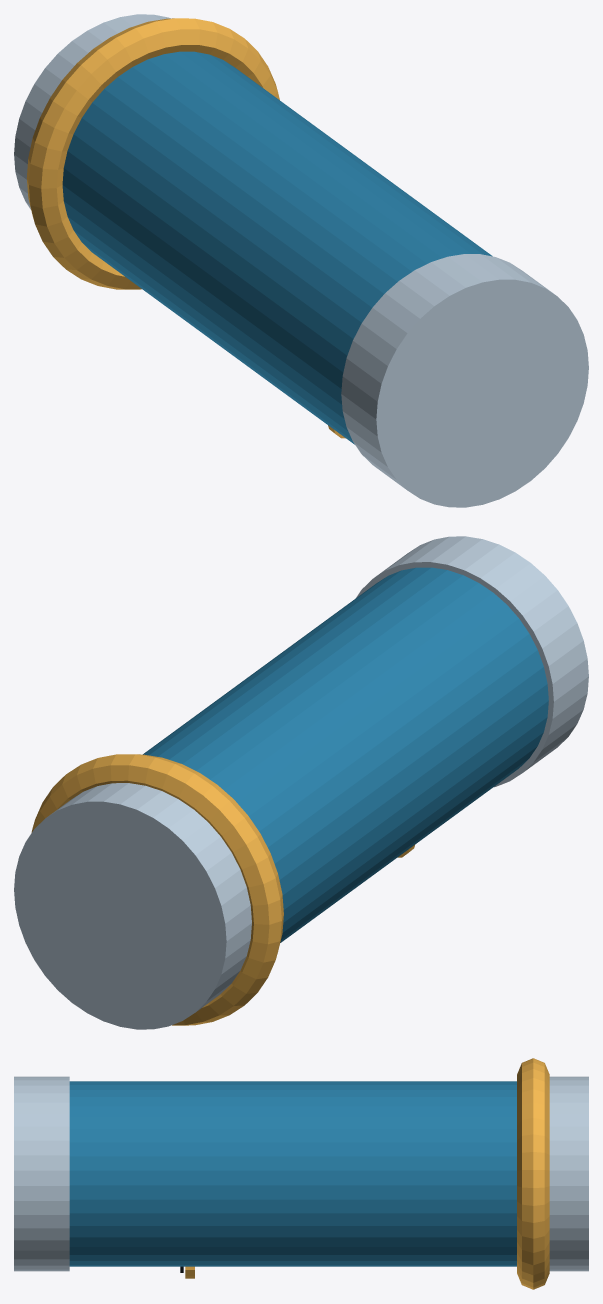
File: 69_L92_SealedCoreCartridgeA.fbx
3 renders of one model, top to bottom at view 1: azimuth 30°, elevation 25°; view 2: azimuth 150°, elevation 25°; view 3: azimuth 270°, elevation 25°, orthographic. The views are drawn at different scales.
Parts seen in each view (by area): view 1: L92_SealedCoreCartridgeA_Part_0000, L92_SealedCoreCartridgeA_Part_0001, L92_SealedCoreCartridgeA_Part_0006; view 2: L92_SealedCoreCartridgeA_Part_0000, L92_SealedCoreCartridgeA_Part_0001, L92_SealedCoreCartridgeA_Part_0006; view 3: L92_SealedCoreCartridgeA_Part_0000, L92_SealedCoreCartridgeA_Part_0001, L92_SealedCoreCartridgeA_Part_0006.
Part boxes in pixels (bbox=[...]): L92_SealedCoreCartridgeA_Part_0000: bbox=[62, 51, 492, 444]; L92_SealedCoreCartridgeA_Part_0001: bbox=[14, 14, 588, 507]; L92_SealedCoreCartridgeA_Part_0006: bbox=[26, 18, 279, 289]; L92_SealedCoreCartridgeA_Part_0000: bbox=[143, 567, 548, 942]; L92_SealedCoreCartridgeA_Part_0001: bbox=[14, 536, 588, 1029]; L92_SealedCoreCartridgeA_Part_0006: bbox=[31, 754, 283, 1025]; L92_SealedCoreCartridgeA_Part_0000: bbox=[69, 1081, 516, 1266]; L92_SealedCoreCartridgeA_Part_0001: bbox=[14, 1076, 588, 1271]; L92_SealedCoreCartridgeA_Part_0006: bbox=[517, 1058, 549, 1289].
Bounding box in the file's own units: 100 × 100 × 248.
